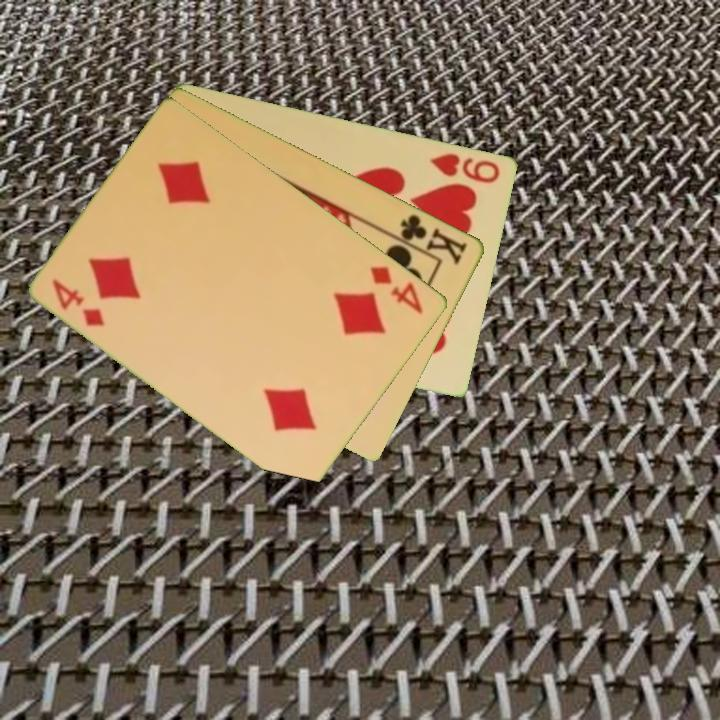4d: (367, 262, 427, 317), (49, 275, 108, 330)
9h: (427, 149, 503, 186)
Kc: (388, 210, 471, 268)
